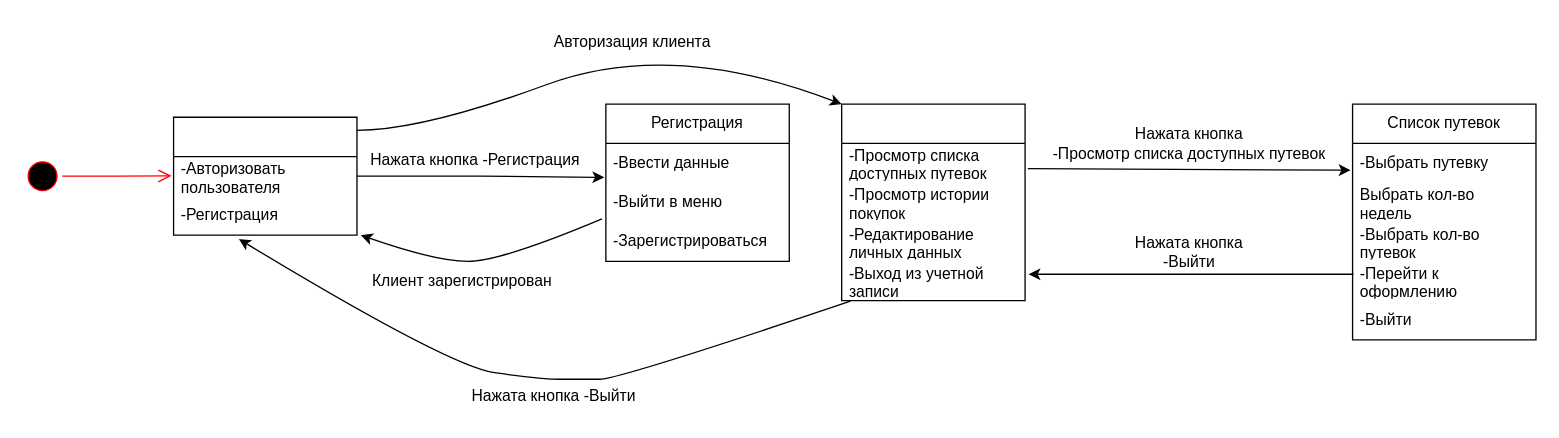
The diagram is 1559 pixels wide and 438 high, and some of its shapes have lost their labels. Here are the shapes that lost their labels. From the top down, the box of each, then its label:
(172, 116, 357, 235): Авторизация
(840, 103, 1025, 301): Меню выбора действий клиента
